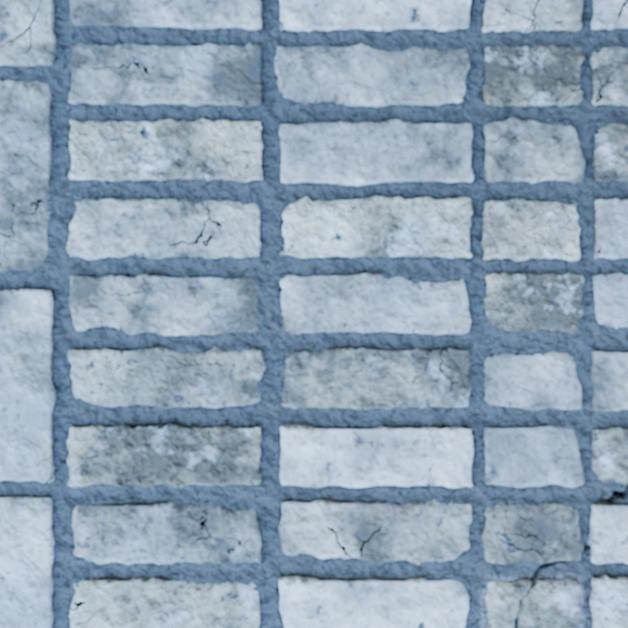brick: (280, 119, 472, 184), (67, 423, 260, 487), (69, 43, 260, 106), (279, 500, 470, 563), (275, 44, 468, 106), (68, 347, 264, 408), (70, 119, 261, 181), (280, 425, 472, 486), (73, 502, 260, 564), (283, 196, 471, 257), (282, 348, 471, 408), (281, 273, 470, 333), (67, 199, 259, 258), (69, 275, 258, 334), (0, 290, 54, 481), (0, 80, 51, 270), (279, 576, 467, 627), (70, 578, 259, 627), (0, 496, 53, 627), (485, 118, 584, 182), (485, 425, 583, 486), (484, 46, 583, 106), (482, 503, 581, 563), (482, 199, 579, 260), (485, 272, 583, 332), (280, 0, 470, 30), (70, 0, 261, 29), (484, 353, 581, 409), (0, 0, 55, 65), (590, 504, 627, 562), (591, 351, 627, 410), (591, 47, 627, 104), (592, 427, 627, 482), (590, 575, 627, 627), (595, 199, 627, 258), (594, 124, 627, 181), (593, 273, 627, 327), (482, 0, 535, 31), (535, 0, 582, 30), (591, 0, 627, 29)
broken_brick: (520, 577, 583, 627), (485, 577, 529, 627)
crack: (512, 559, 568, 627), (167, 200, 223, 247), (2, 0, 42, 52), (503, 0, 541, 30), (594, 65, 619, 103), (438, 347, 459, 392), (409, 349, 432, 389), (325, 524, 352, 557), (359, 525, 382, 558), (595, 485, 627, 504), (70, 599, 86, 611), (581, 536, 591, 553), (617, 0, 627, 17), (448, 201, 470, 208), (596, 247, 602, 258), (45, 475, 53, 482), (488, 621, 491, 627)
